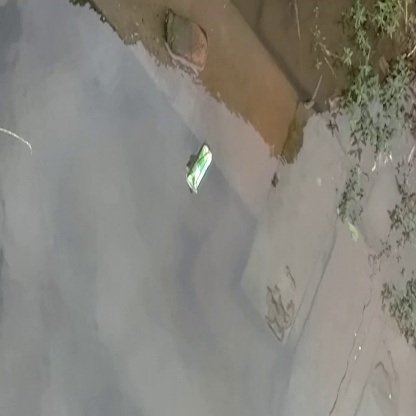milk-box: (183, 133, 227, 204)
